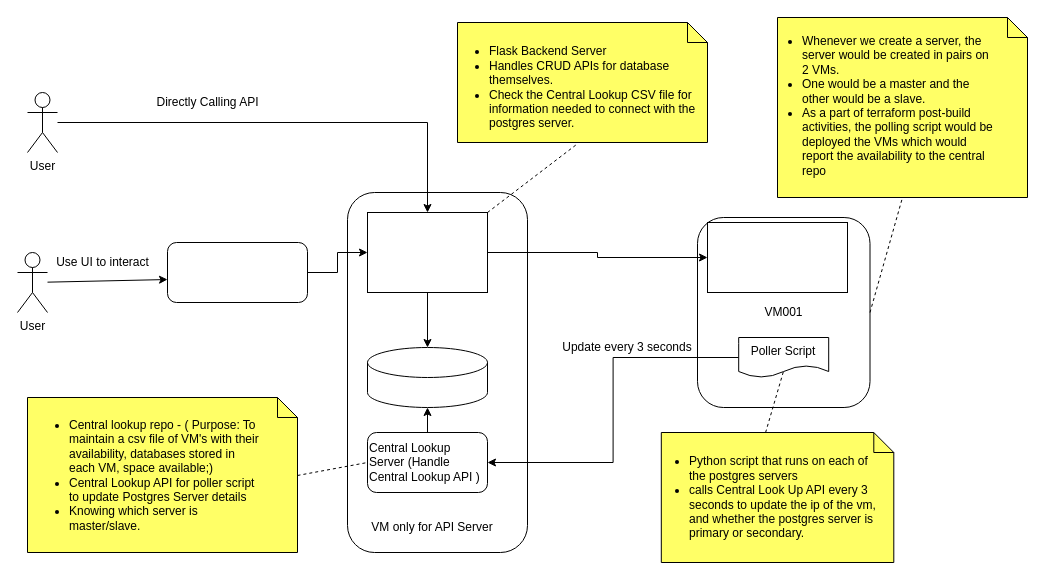
The diagram is 1045 pixels wide and 580 high, and some of its shapes have lost their labels. Here are the shapes that lost their labels. From the top down, the centre of each, then its label:
At (237,272): "React.js Web Application (Hosted on a 3rd party cloud)".
At (427,252): "Flask Backend Server (Handle Database Operations API)".
At (777,257): "Postgres Instance with Replication Configured.".
At (427,377): "CSV file".
